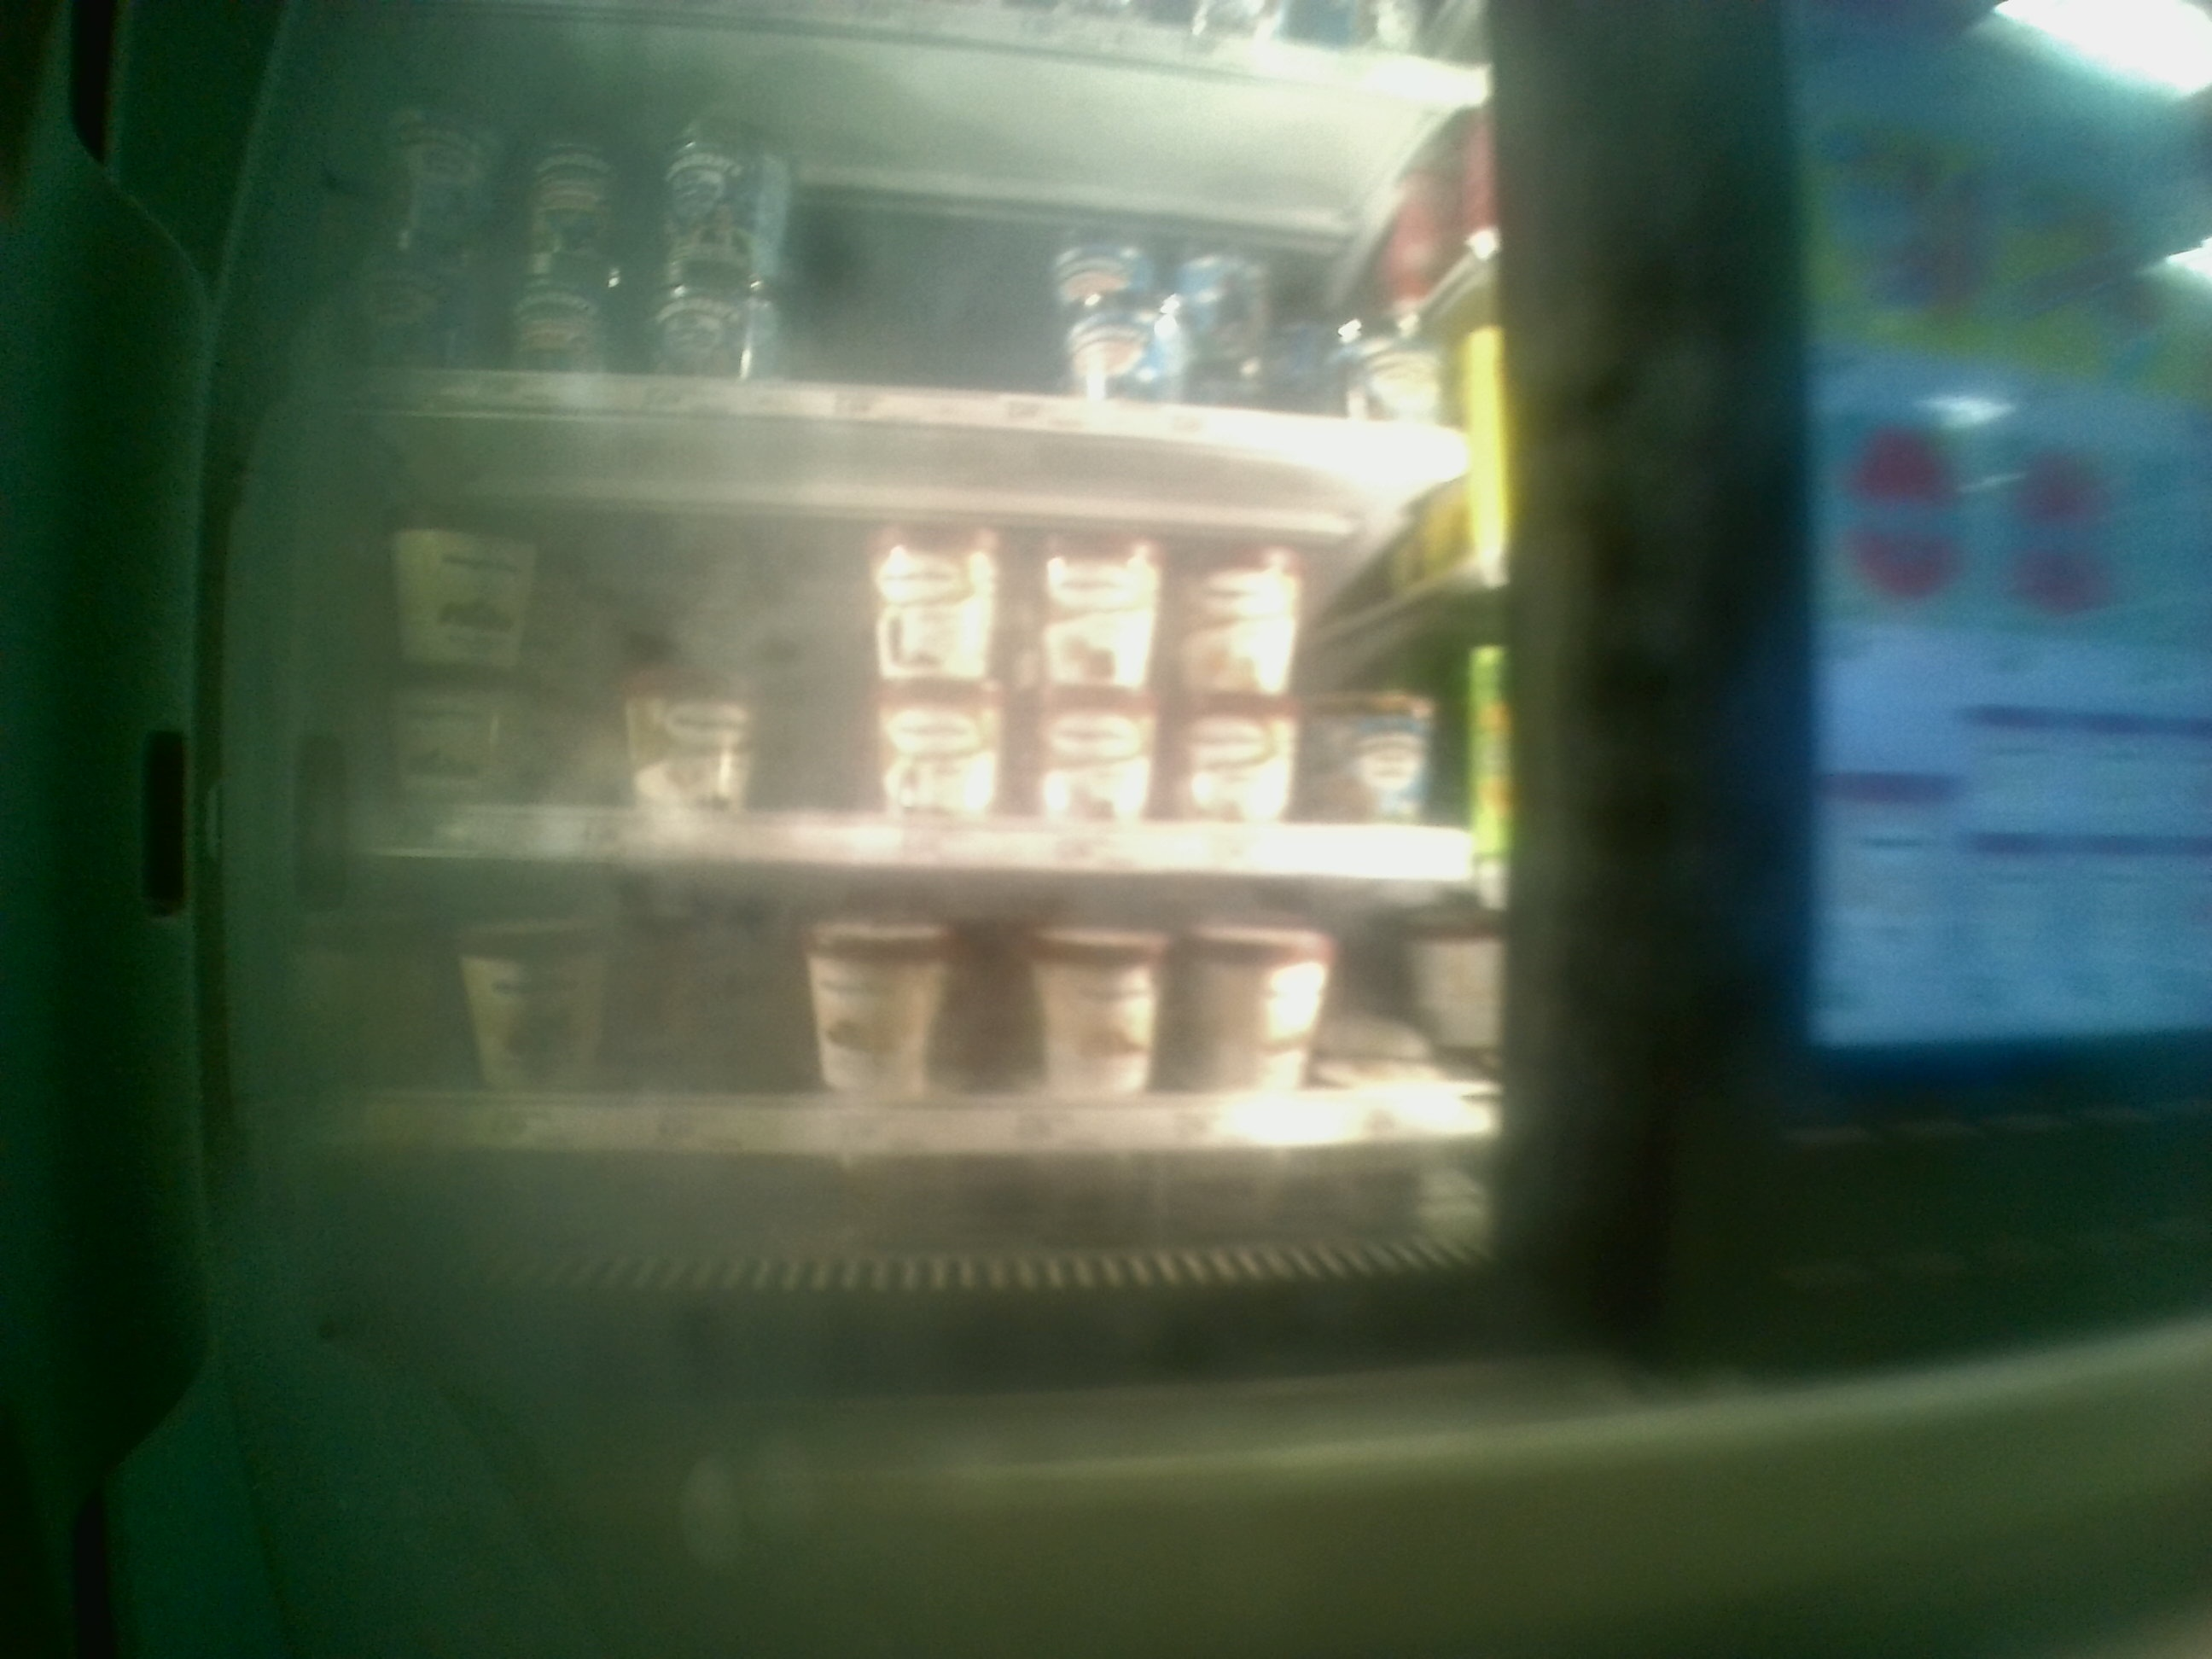shelf: (343, 410, 1503, 873), (336, 868, 1510, 1284)
